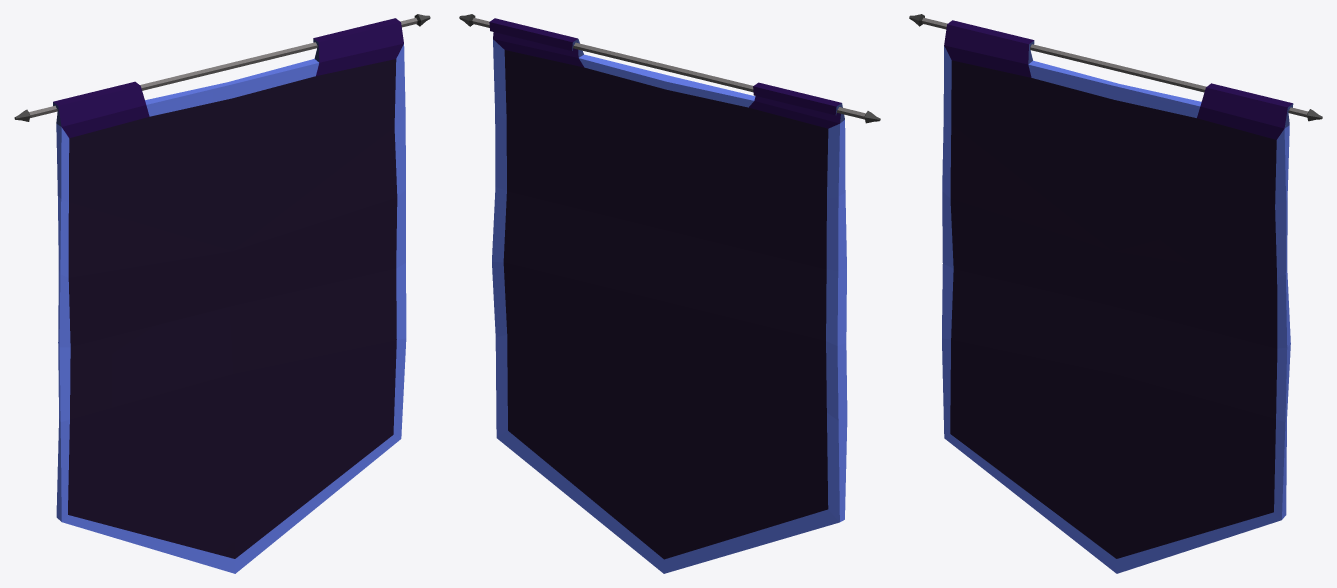
Rendered from Banner_Blue_02.glb.
3 views of the same model, side by side, from view 1: azimuth 30°, elevation 25°; view 2: azimuth 150°, elevation 25°; view 3: azimuth 330°, elevation 25° (orthographic).
Visible parts, largest first — view 1: Banner_Blue_02; view 2: Banner_Blue_02; view 3: Banner_Blue_02.
Part boxes in pixels (x1,y1,x2,y2): Banner_Blue_02: (14, 14, 430, 573); Banner_Blue_02: (459, 14, 880, 573); Banner_Blue_02: (909, 14, 1322, 573).
Size of what is drawn, in the model's own units: 1.89 by 2.22 by 0.0785.
Materials: 1 (1 with a texture image).
